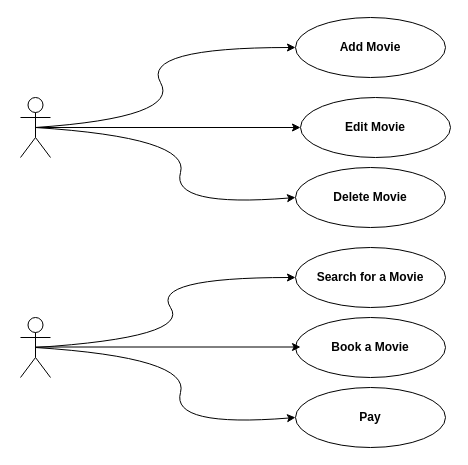
Image size: 468x465. Some labels were removed from this diagram. Here are the shapes that lost their labels. From the top down, the box of each, then its label:
(20, 96, 50, 158): Admin
(20, 316, 50, 378): User
